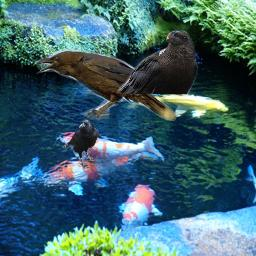Crow: (34, 47, 187, 121), (115, 29, 198, 94), (60, 117, 99, 170)
